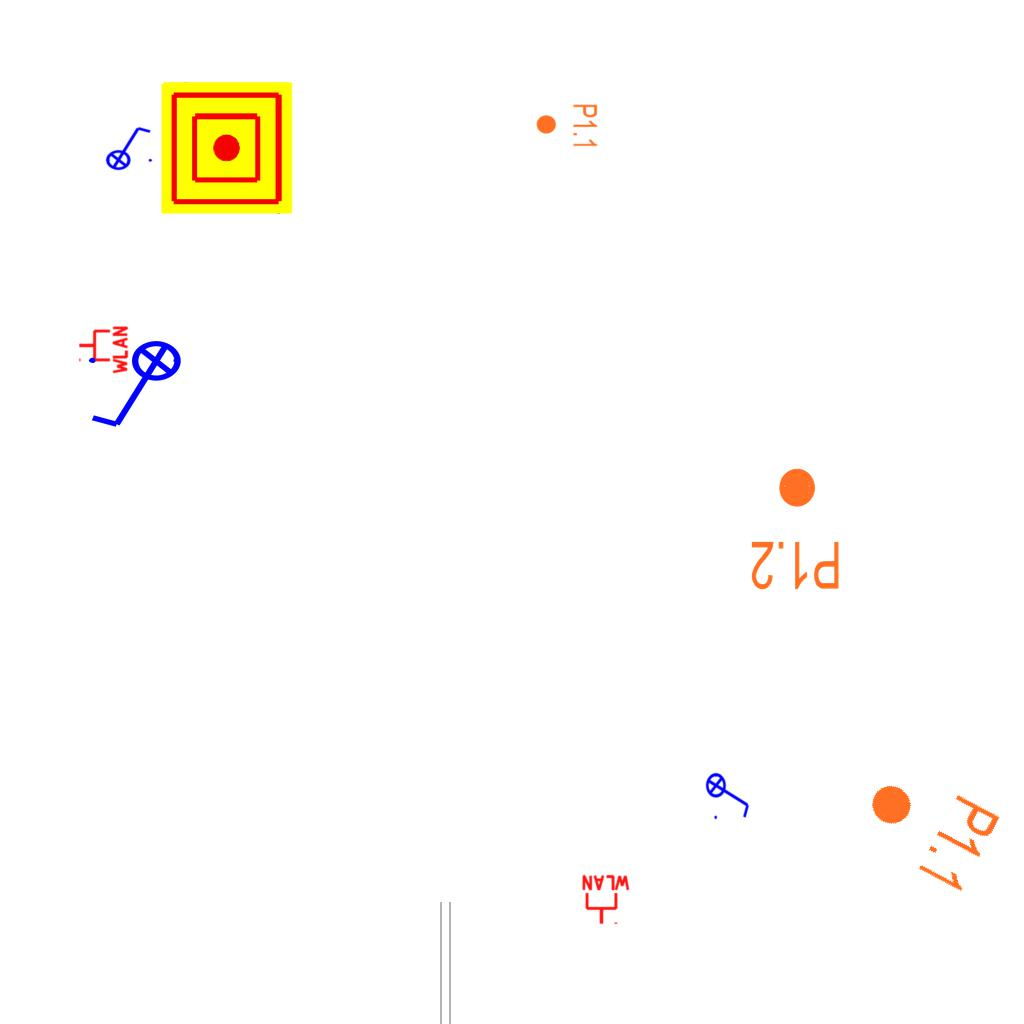Ausschalter_beleuchtet: (83, 339, 195, 435), (99, 123, 155, 171), (705, 766, 753, 822)
Downlight_LED_Einbauleuchten_Flur: (848, 755, 1005, 899), (749, 465, 842, 593), (535, 103, 599, 149)
NAM-Nichtautomatischer_Melder: (161, 82, 293, 214)
WLAN: (580, 874, 632, 926), (77, 324, 129, 376)
